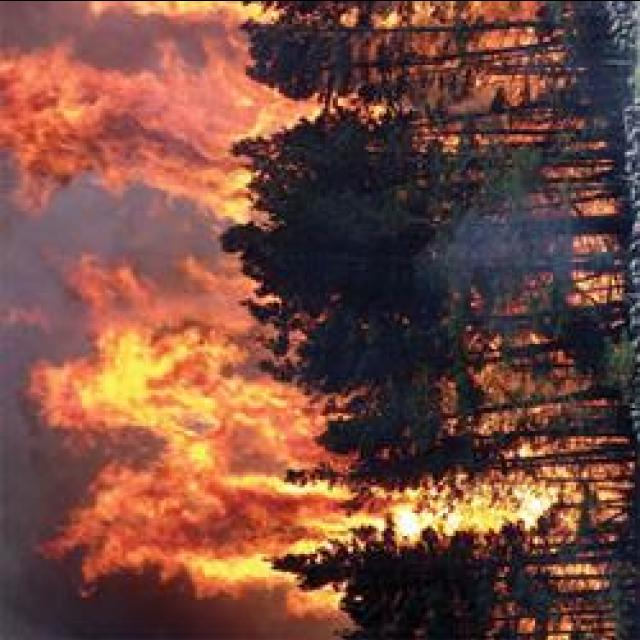fire: (27, 75, 233, 176), (100, 459, 292, 566), (48, 347, 214, 428), (160, 394, 298, 469), (393, 476, 547, 542), (289, 480, 393, 544)
smoke: (3, 588, 183, 640), (1, 433, 52, 595)
